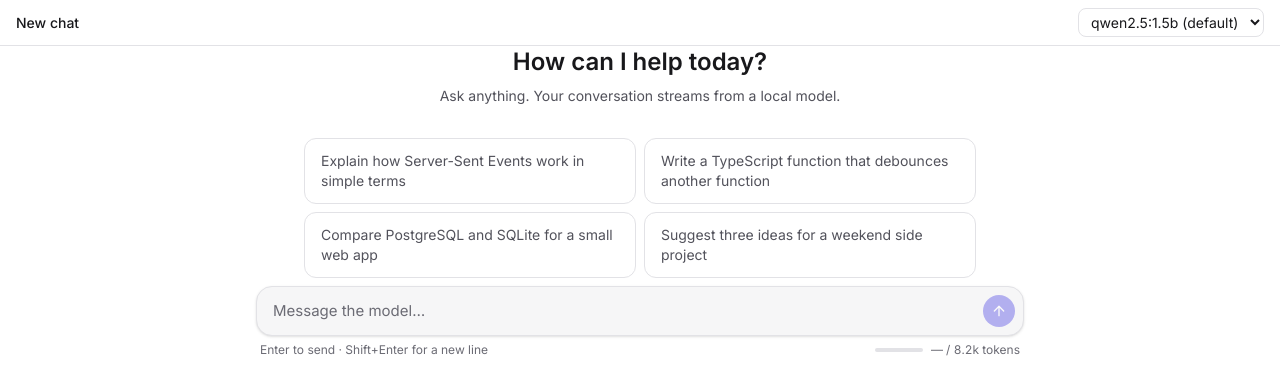
Test: ChatPage › shows a recoverable error and restores the draft when the stream is rejected
Type "retry me" into the text box labelled "Message" at (624, 311), box [273,295,975,327]
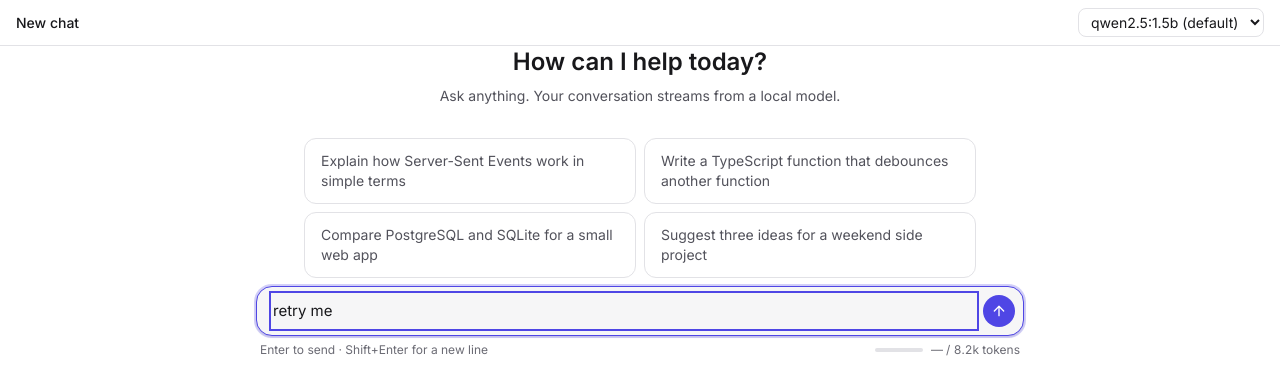
Click the button named "Send" at (999, 311), box [983,295,1015,327]
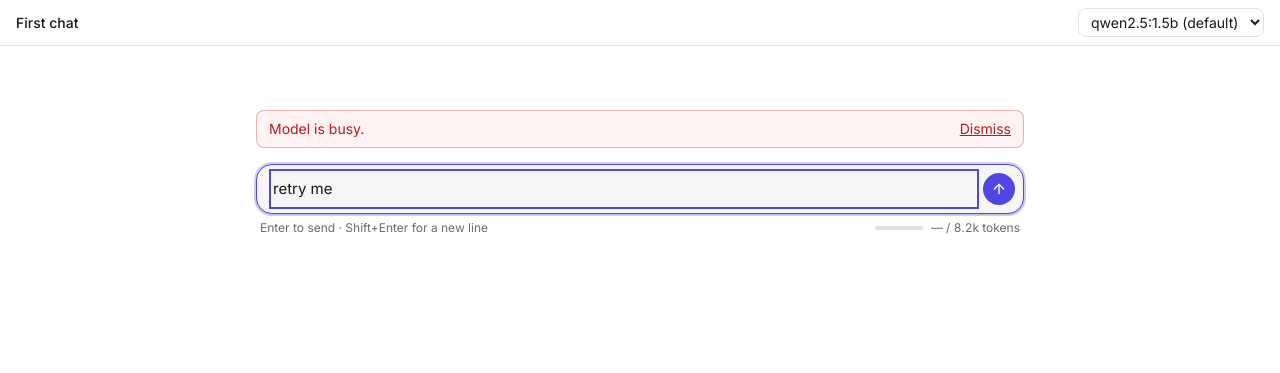
Expected: the message shows "Model is busy.", [269,120,364,137]
